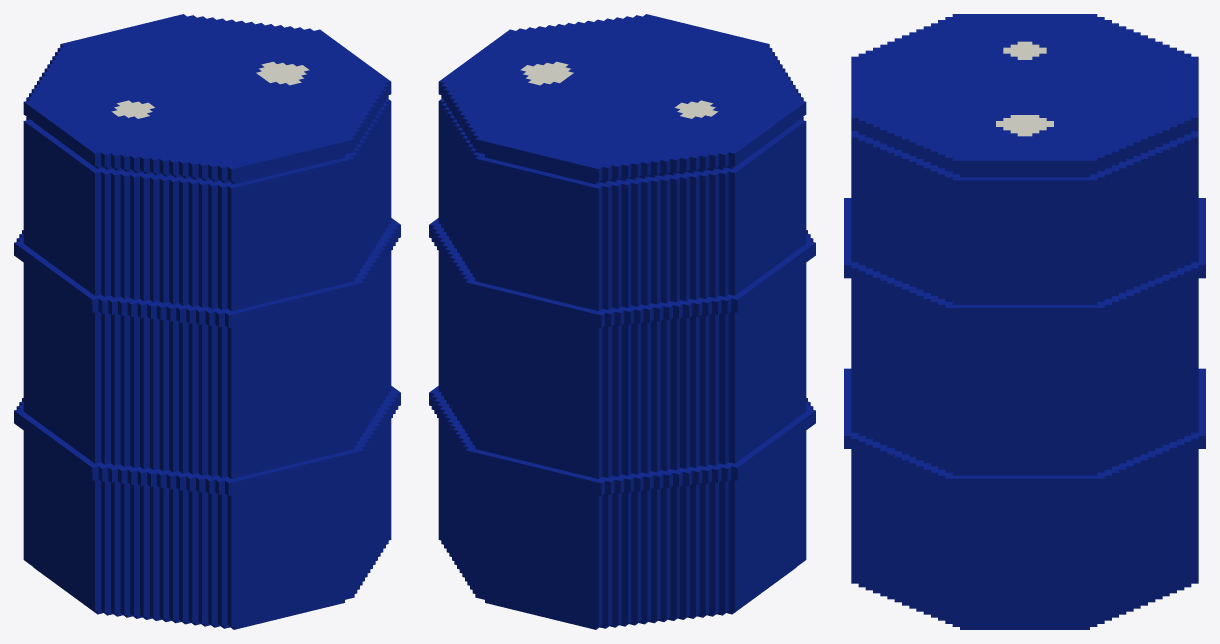
Rendered from plastic_barrel.glb.
3 views of the same model, side by side, from view 1: azimuth 30°, elevation 25°; view 2: azimuth 150°, elevation 25°; view 3: azimuth 270°, elevation 25° (orthographic).
Visible parts, largest first — view 1: plastic_barrel:compound; view 2: plastic_barrel:compound; view 3: plastic_barrel:compound.
Part boxes in pixels (<box>): plastic_barrel:compound: <box>14,14,400,629</box>; plastic_barrel:compound: <box>429,14,815,629</box>; plastic_barrel:compound: <box>844,14,1205,629</box>.
Size of the model in its own units: 0.5 by 0.72 by 0.5.
